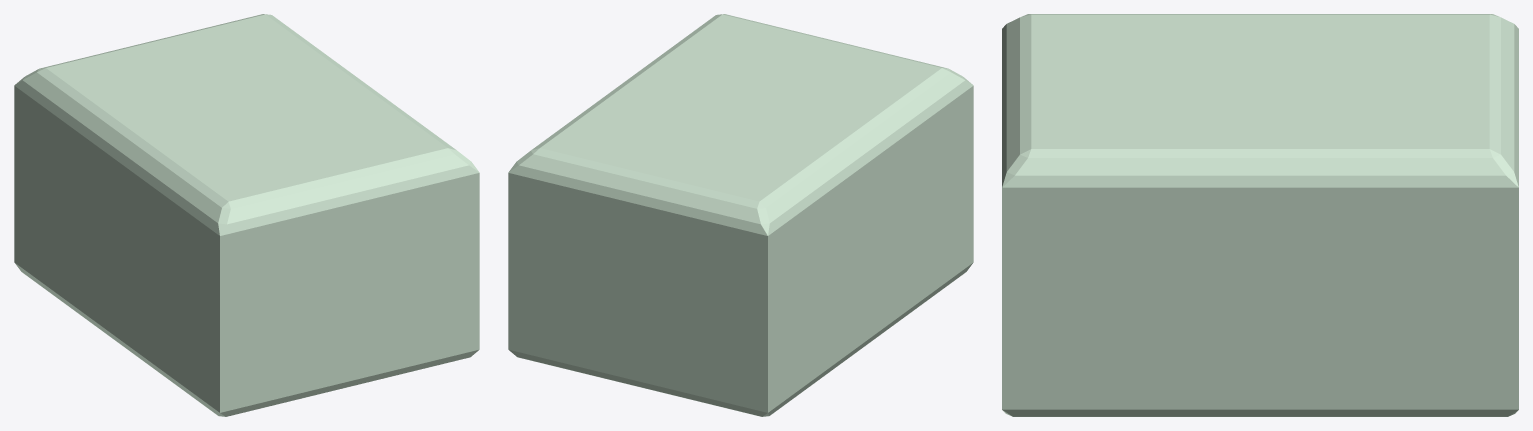
File: Rectangular Stone.fbx
3 views of the same model, side by side, from view 1: azimuth 30°, elevation 25°; view 2: azimuth 150°, elevation 25°; view 3: azimuth 270°, elevation 25° (orthographic). The views are drawn at different scales.
Parts seen in each view (by area): view 1: Cube; view 2: Cube; view 3: Cube.
Boxes of the visible parts, x1,y1,x2,y2 form: Cube: [14, 14, 479, 416]; Cube: [508, 14, 973, 416]; Cube: [1002, 14, 1518, 416].
Size of the model in its own units: 320 by 244 by 439.
